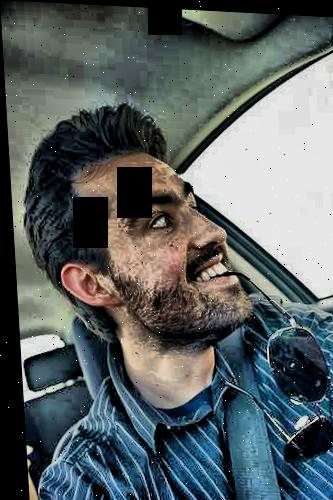seatbelt: (203, 318, 286, 500)
